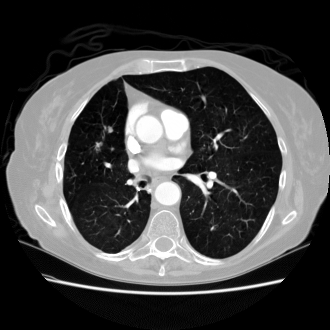nodule: (106, 125, 114, 133)
